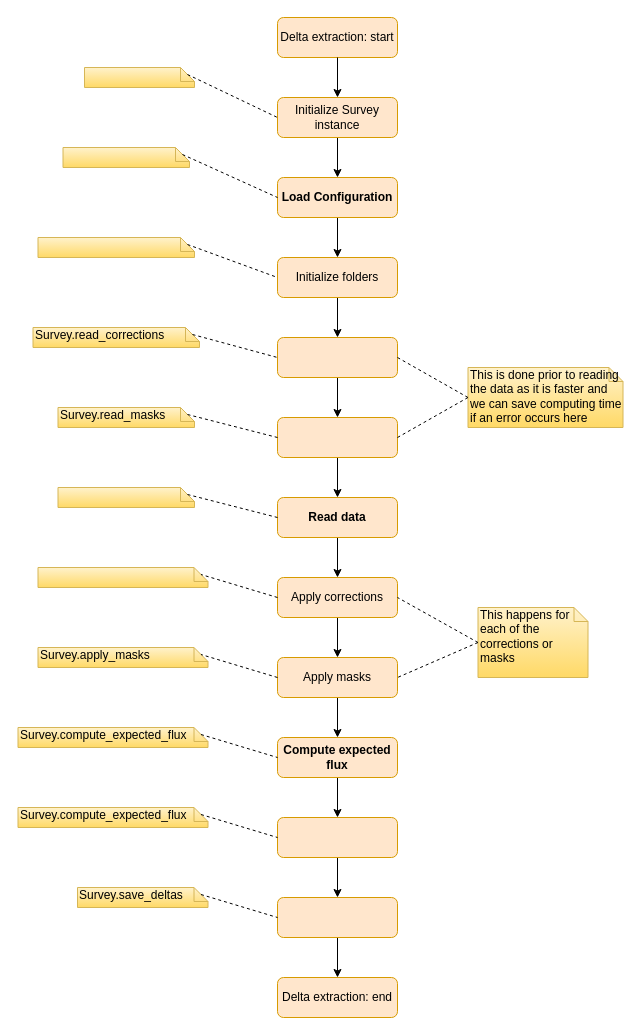
Image size: 640x1035. Some labels were removed from this diagram. The box of each missing label's shape, as (x1, y1, x2, y2) in pixels:
Extract deltas: (276, 816, 398, 858)
Initialize Forest Corrections: (276, 336, 398, 378)
Initialize Forest Masks: (276, 416, 398, 458)
Save deltas: (276, 896, 398, 938)
Survey.__init__: (84, 66, 194, 88)
Survey.apply_corrections: (37, 566, 208, 588)
Survey.initialize_folders: (37, 236, 194, 258)
Survey.load_config: (62, 146, 190, 168)
Survey.read_data: (57, 486, 194, 508)
